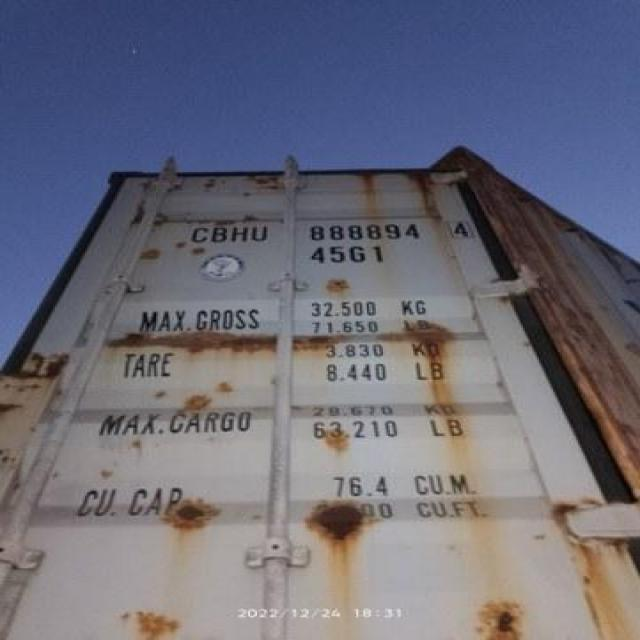ISO: (302, 238, 392, 268)
container_number: (195, 212, 475, 247)
